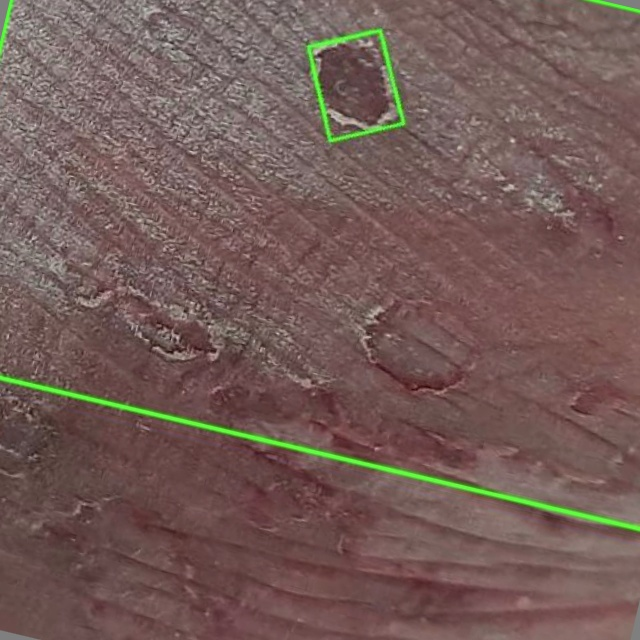Contact Dermatitis: (0, 0, 639, 530), (307, 30, 401, 141)
